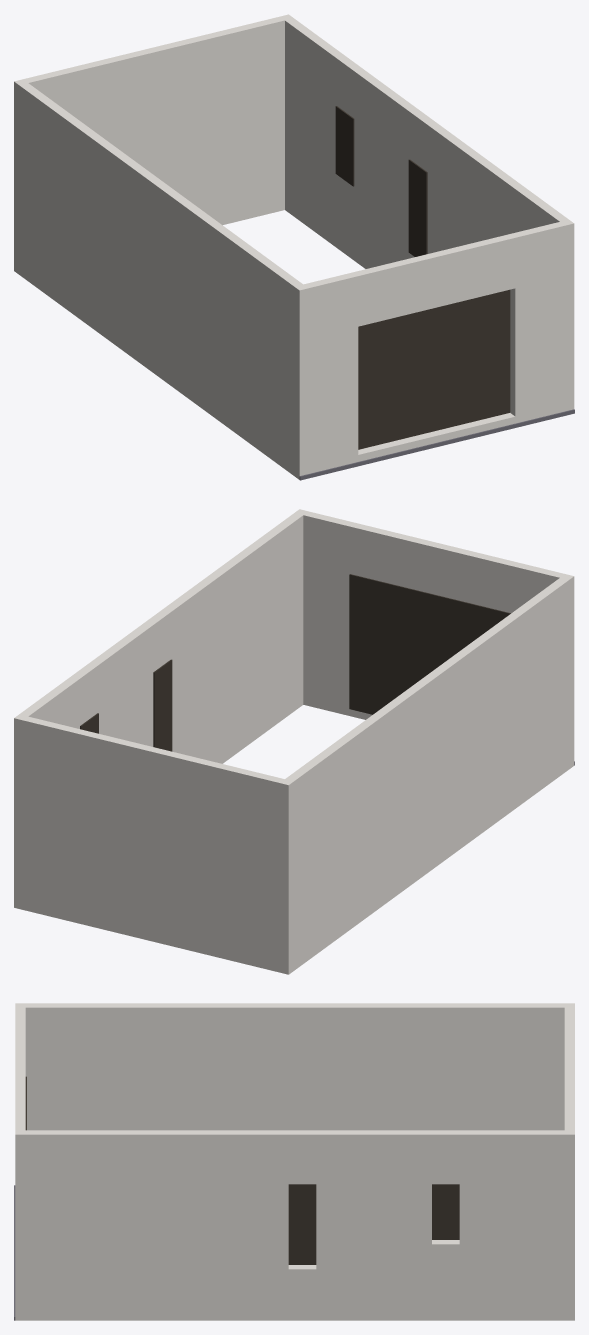
File: SM_Floor_NarrowUpperBalconyEndR_White_455_01.gltf
The picture shows the model from 3 angles, top to bottom: view 1: azimuth 30°, elevation 25°; view 2: azimuth 150°, elevation 25°; view 3: azimuth 270°, elevation 25°; orthographic projection. The views are drawn at different scales.
Visible parts, largest first — view 1: SM_Floor_NarrowUpperBalconyEndR_White_455_01; view 2: SM_Floor_NarrowUpperBalconyEndR_White_455_01; view 3: SM_Floor_NarrowUpperBalconyEndR_White_455_01.
Part boxes in pixels (<box>): SM_Floor_NarrowUpperBalconyEndR_White_455_01: <box>14,14,574,480</box>; SM_Floor_NarrowUpperBalconyEndR_White_455_01: <box>14,509,574,974</box>; SM_Floor_NarrowUpperBalconyEndR_White_455_01: <box>14,1003,574,1320</box>.
Bounding box in the file's own units: 4.55 × 3 × 8.21.
1 material, 1 textured.
